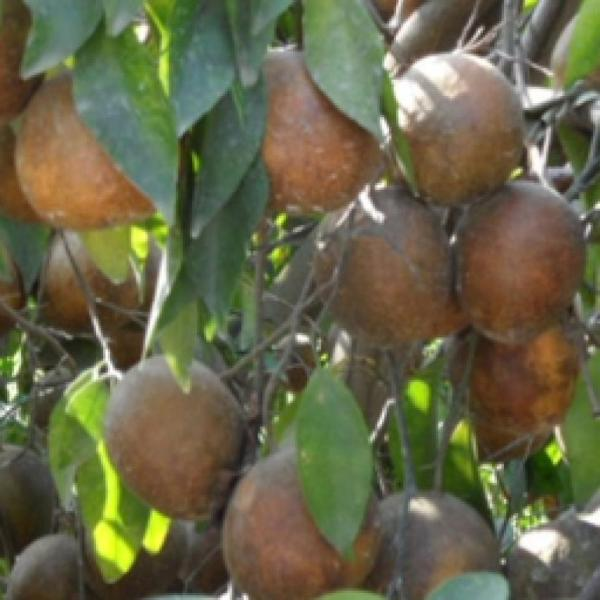Canker: (228, 38, 378, 216), (96, 345, 252, 514), (446, 174, 592, 350), (220, 448, 389, 591), (315, 191, 454, 360), (19, 65, 153, 234), (382, 49, 525, 206), (447, 309, 581, 473), (369, 472, 512, 597), (44, 224, 162, 337), (499, 504, 600, 600)
